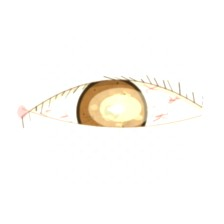corneal_ulcer: (87, 81, 154, 135)
